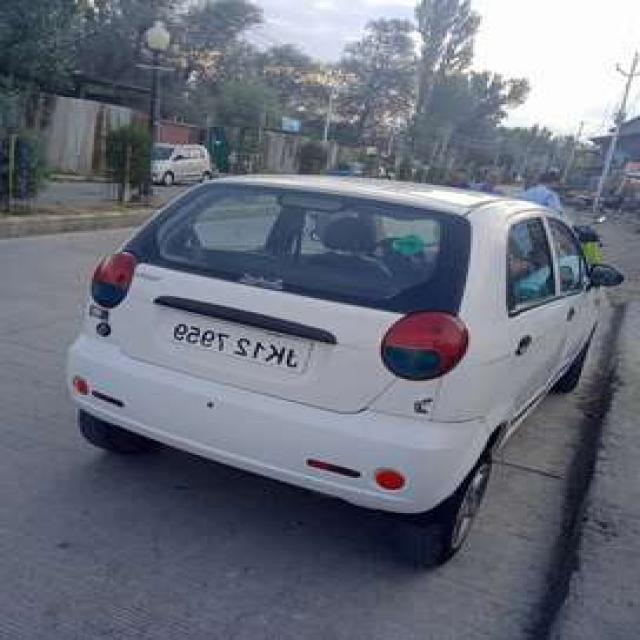license_plate: (163, 309, 321, 382)
